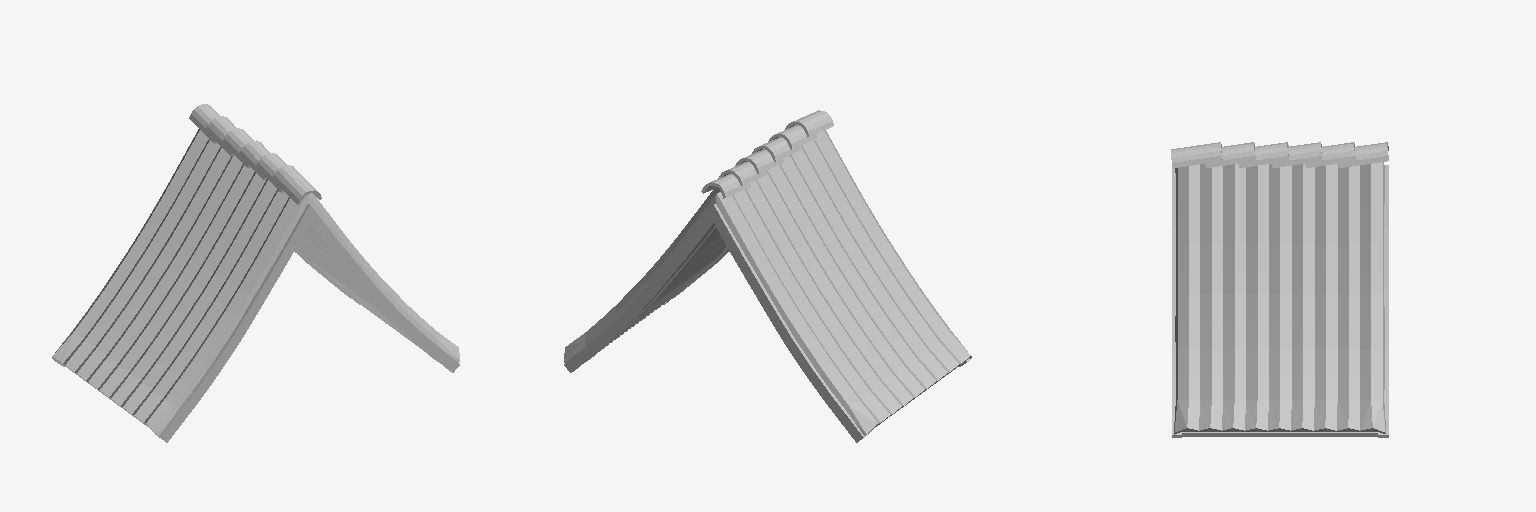
Rendered from Roof_RoundTiles_6x4.obj.
3 renders of one model, left to right at view 1: azimuth 30°, elevation 25°; view 2: azimuth 150°, elevation 25°; view 3: azimuth 270°, elevation 25°, orthographic.
Visible parts, largest first — view 1: Roof_RoundTiles_6x4; view 2: Roof_RoundTiles_6x4; view 3: Roof_RoundTiles_6x4.
Part boxes in pixels (x1,y1,x2,y2): Roof_RoundTiles_6x4: (52, 104, 459, 442); Roof_RoundTiles_6x4: (564, 110, 971, 442); Roof_RoundTiles_6x4: (1171, 142, 1388, 437).
Bounding box in the file's own units: 8.25 × 5.67 × 4.99.